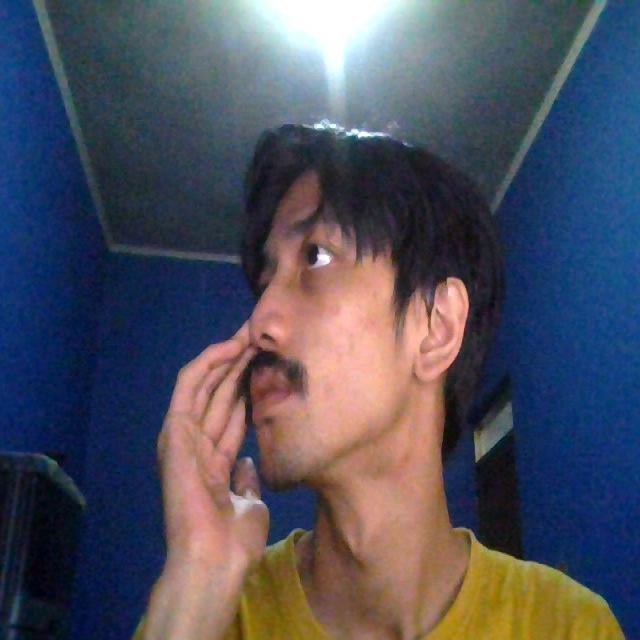Melihat kekanan: (223, 137, 525, 520)
movement: (135, 290, 275, 615)
